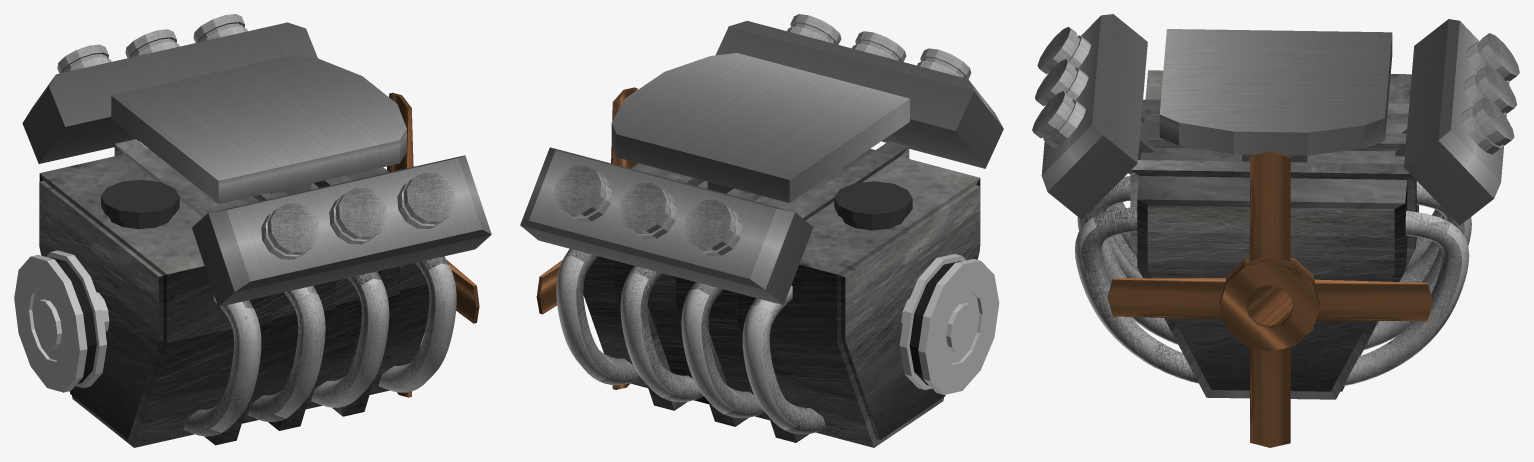
Rendered from Objeto_Motor_Animado.gltf.
The picture shows the model from 3 angles, left to right: view 1: azimuth 30°, elevation 25°; view 2: azimuth 150°, elevation 25°; view 3: azimuth 270°, elevation 25°; orthographic projection.
Parts seen in each view (by area): view 1: Cube.003, Cube.015, Cube.007, Cylinder.021, Cylinder.012, NurbsPath.010, NurbsPath.008, NurbsPath.009, NurbsPath.011, Cylinder.011, Cylinder.013, Cylinder.018 (+1 smaller); view 2: Cube.003, Cube.015, Cube.007, Cylinder.021, Cylinder.012, NurbsPath.010, NurbsPath.011, NurbsPath.008, NurbsPath.009, Cylinder.011, Cylinder.013, Cylinder.018 (+1 smaller); view 3: Cube.003, Cube.007, Cube.015, NurbsPath.011, Cylinder.021, Cylinder.018, Cylinder.010, Cylinder.009, NurbsPath.009, NurbsPath.008, NurbsPath.010.
Boxes of the visible parts, bbox=[...] form: Cube.003: bbox=[39, 139, 429, 447]; Cube.015: bbox=[22, 22, 491, 306]; Cube.007: bbox=[111, 55, 406, 203]; Cylinder.021: bbox=[57, 14, 455, 259]; Cylinder.012: bbox=[14, 250, 109, 392]; NurbsPath.010: bbox=[183, 293, 261, 436]; NurbsPath.008: bbox=[247, 286, 325, 422]; NurbsPath.009: bbox=[311, 271, 389, 407]; NurbsPath.011: bbox=[378, 256, 456, 392]; Cylinder.011: bbox=[101, 179, 179, 229]; Cylinder.013: bbox=[49, 257, 96, 383]; Cylinder.018: bbox=[446, 260, 479, 323]; Cube.003: bbox=[583, 141, 980, 447]; Cube.015: bbox=[520, 21, 1003, 304]; Cube.007: bbox=[611, 53, 909, 202]; Cylinder.021: bbox=[554, 14, 971, 255]; Cylinder.012: bbox=[899, 254, 999, 394]; NurbsPath.010: bbox=[742, 285, 826, 434]; NurbsPath.011: bbox=[556, 249, 640, 385]; NurbsPath.008: bbox=[681, 282, 764, 418]; NurbsPath.009: bbox=[620, 266, 703, 402]; Cylinder.011: bbox=[834, 181, 912, 230]; Cylinder.013: bbox=[909, 261, 961, 385]; Cylinder.018: bbox=[536, 260, 562, 314]; Cube.003: bbox=[1130, 70, 1418, 399]; Cube.007: bbox=[1159, 29, 1392, 162]; Cube.015: bbox=[1041, 14, 1509, 225]; NurbsPath.011: bbox=[1075, 206, 1469, 385]; Cylinder.021: bbox=[1032, 27, 1519, 154]; Cylinder.018: bbox=[1107, 278, 1432, 321]; Cylinder.010: bbox=[1249, 151, 1290, 447]; Cylinder.009: bbox=[1220, 256, 1319, 351]; NurbsPath.009: bbox=[1077, 176, 1471, 349]; NurbsPath.008: bbox=[1105, 207, 1444, 282]; NurbsPath.010: bbox=[1110, 202, 1442, 272].
Size of the model in its own units: 6.74 by 5.62 by 7.91.
Materials: 15 (11 with a texture image).
